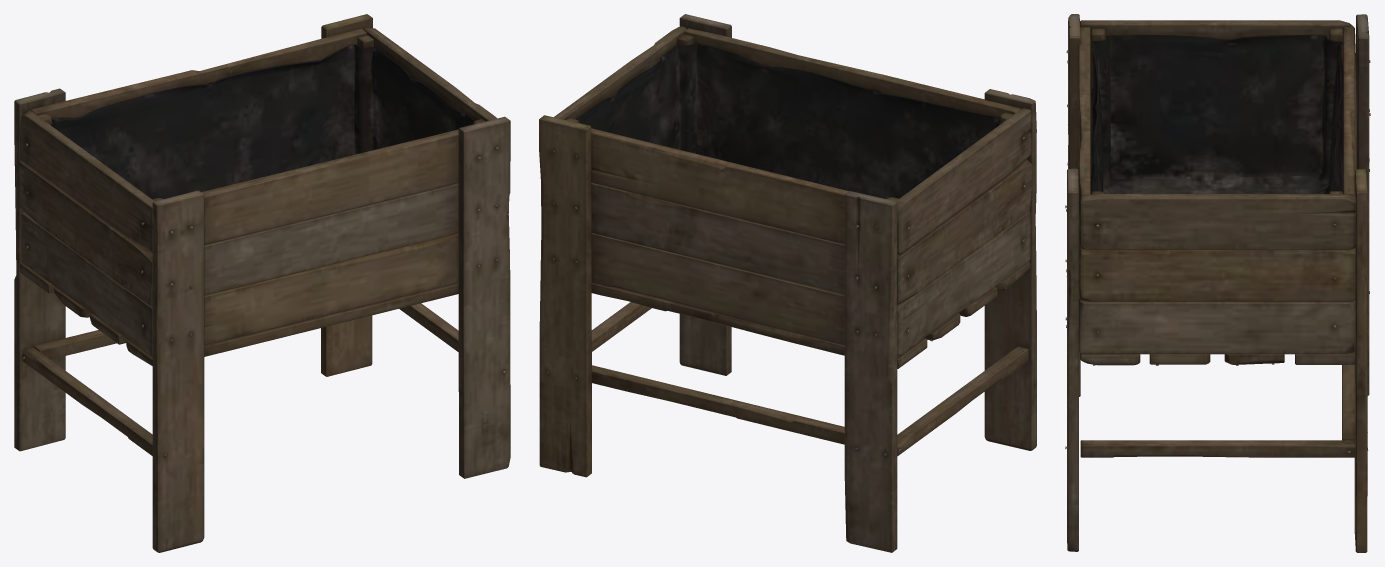
The model's file is ph-planter_box_03.glb.
The picture shows the model from 3 angles, left to right: view 1: azimuth 30°, elevation 25°; view 2: azimuth 150°, elevation 25°; view 3: azimuth 270°, elevation 25°; orthographic projection. The views are drawn at different scales.
Parts seen in each view (by area): view 1: planter_box_03; view 2: planter_box_03; view 3: planter_box_03.
Boxes of the visible parts, x1,y1,x2,y2 form: planter_box_03: (14,14,510,552); planter_box_03: (539,14,1036,552); planter_box_03: (1065,14,1370,552).
Size of the model in its own units: 1 by 0.9353 by 0.717.
Materials: 1 (1 with a texture image).
